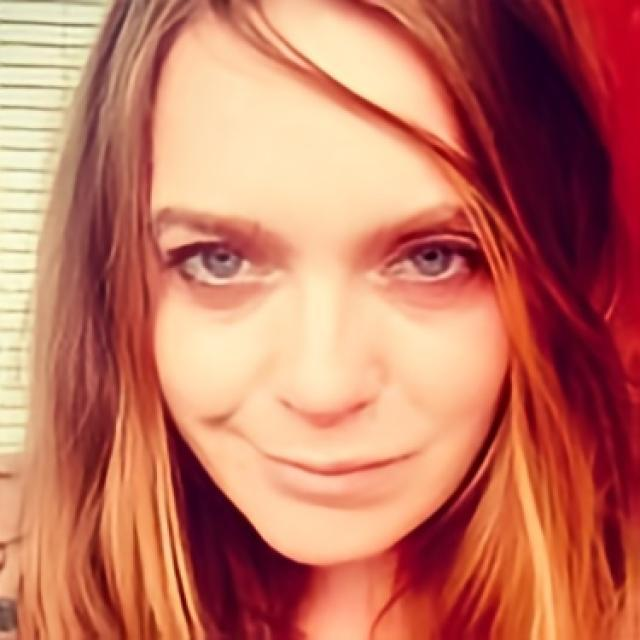content: (138, 2, 524, 566)
